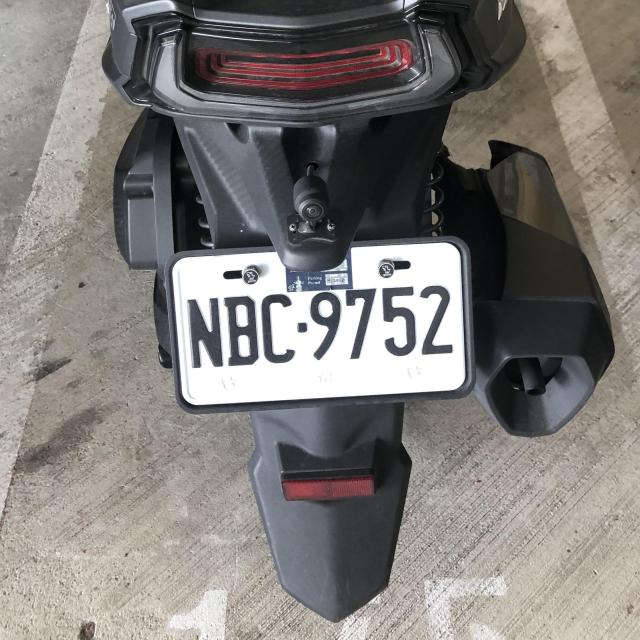W: (168, 238, 476, 407)
